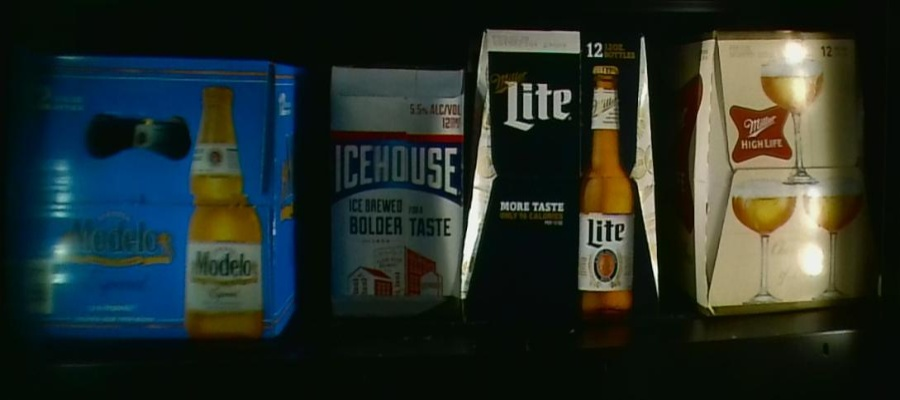bottle: (7, 54, 305, 339), (468, 27, 663, 322), (668, 35, 879, 307), (329, 63, 464, 325)
